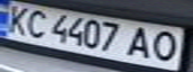0: (81, 17, 103, 50)
4: (45, 11, 72, 44), (63, 15, 87, 47)
7: (100, 19, 127, 53)
A: (124, 25, 157, 60)
C: (18, 7, 51, 38)
K: (0, 3, 33, 35)
O: (145, 28, 187, 63)
